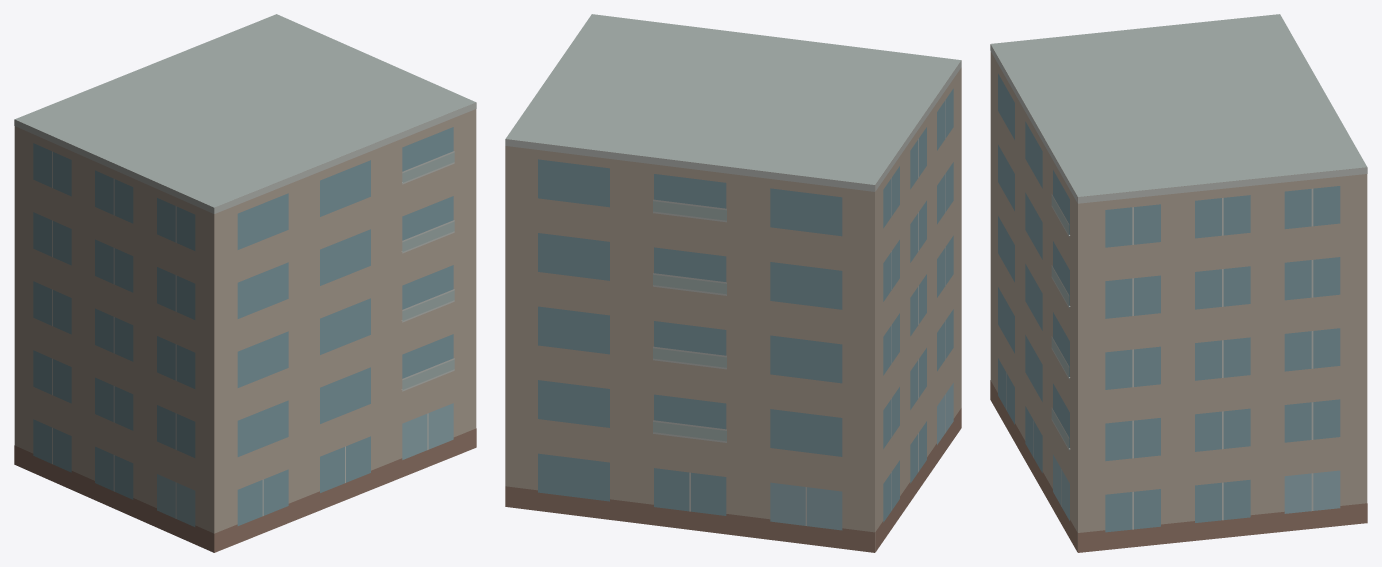
File: survey-upis-32646625.glb
3 renders of one model, left to right at view 1: azimuth 30°, elevation 25°; view 2: azimuth 150°, elevation 25°; view 3: azimuth 270°, elevation 25°, orthographic. The views are drawn at different scales.
Parts seen in each view (by area): view 1: survey-upis-32646625.tmp; view 2: survey-upis-32646625.tmp; view 3: survey-upis-32646625.tmp.
Part boxes in pixels (<box>): survey-upis-32646625.tmp: <box>14,14,476,552</box>; survey-upis-32646625.tmp: <box>505,14,961,552</box>; survey-upis-32646625.tmp: <box>990,14,1367,552</box>.
Bounding box in the file's own units: 14.35 × 13 × 12.49.
